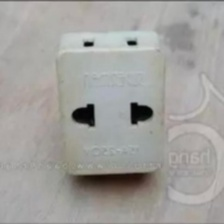three_eye_plug: (52, 25, 171, 182)
